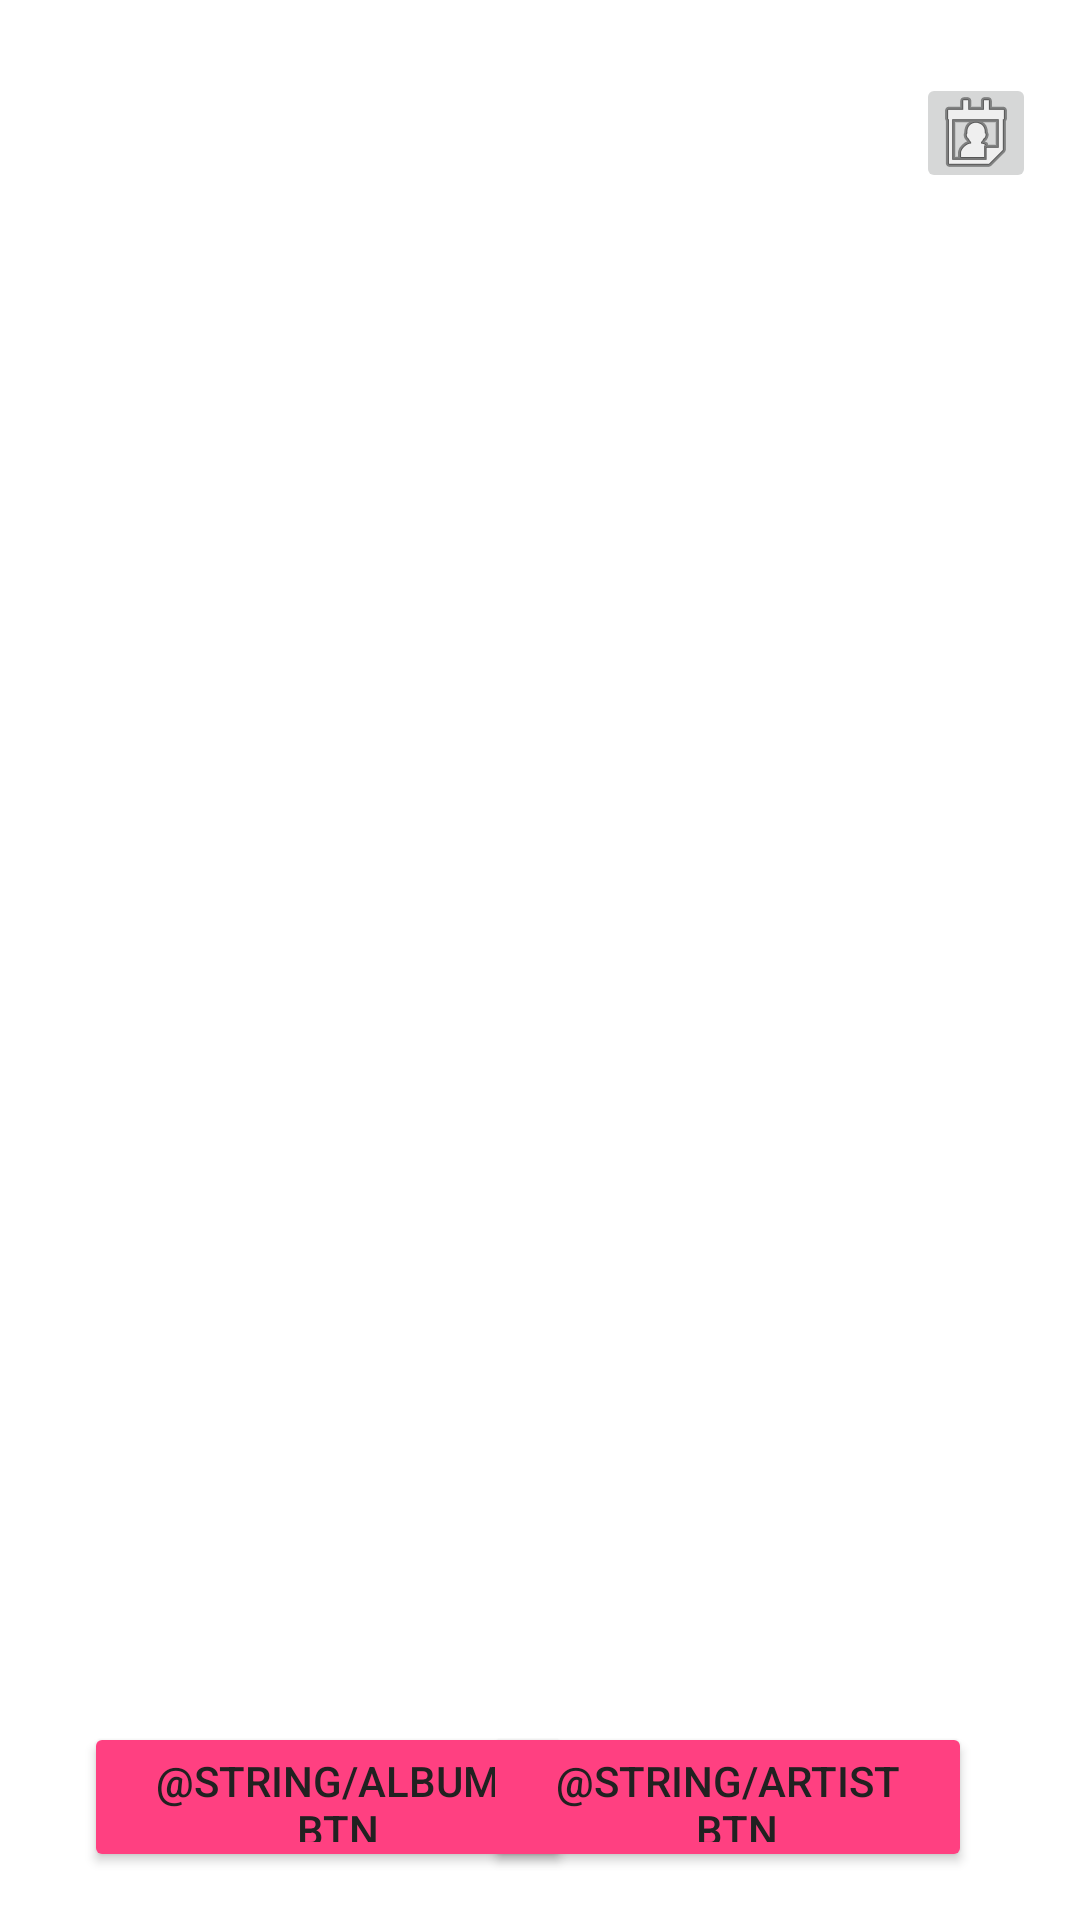

Icon click points for this 1080×1920 phone screenshot, format point (x, y):
calendar: point (976, 133)
